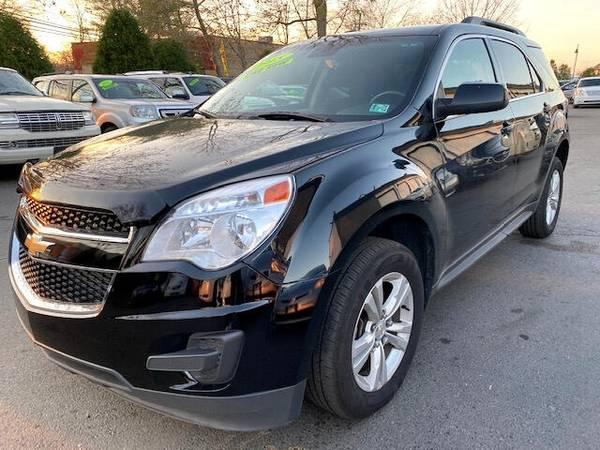Front_Bumper: (5, 213, 339, 418)
Front_Fender: (250, 109, 448, 287)
Front_Left_Door: (438, 107, 519, 276)
Front_Left_Window: (434, 42, 507, 124)
Front_Windshield: (188, 37, 435, 125)
Grille: (8, 181, 137, 316)
Hood: (19, 120, 381, 226)
Left_Headlight: (136, 172, 293, 270)
Rear_Fender: (543, 88, 569, 137)
Rear_Left_Door: (507, 93, 558, 228)
Rear_Left_Window: (491, 39, 543, 103)
Roof: (287, 20, 562, 114)
Wheel: (315, 238, 430, 414), (520, 160, 568, 238)
